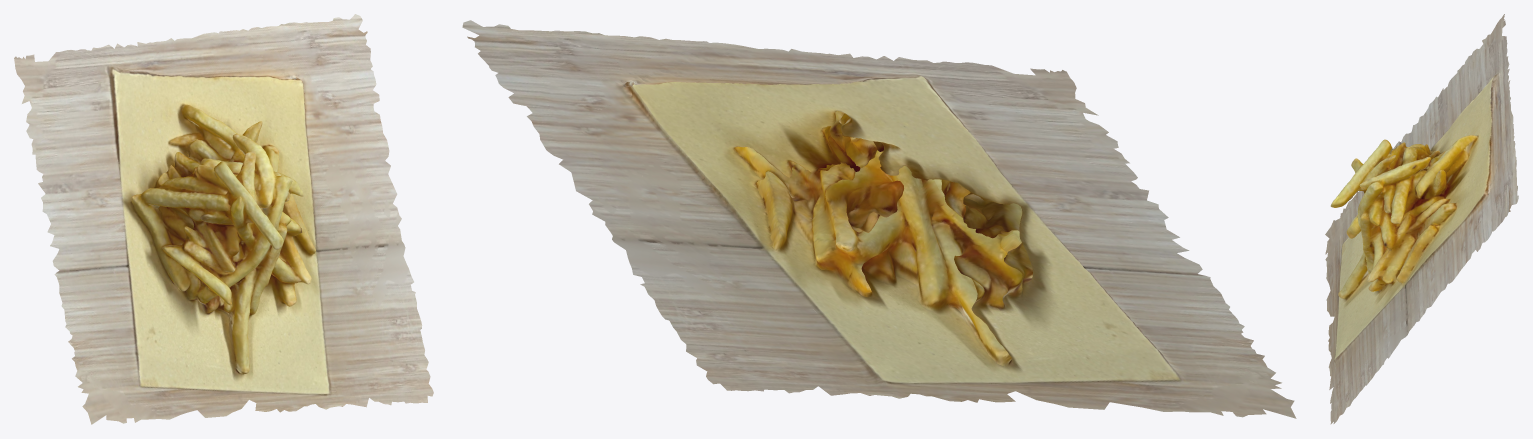
The model's file is french_fries.glb.
3 views of the same model, side by side, from view 1: azimuth 30°, elevation 25°; view 2: azimuth 150°, elevation 25°; view 3: azimuth 270°, elevation 25° (orthographic). The views are drawn at different scales.
Parts seen in each view (by area): view 1: Object_2; view 2: Object_2; view 3: Object_2.
Boxes of the visible parts, bbox=[...] form: Object_2: bbox=[14, 14, 433, 424]; Object_2: bbox=[462, 20, 1296, 418]; Object_2: bbox=[1325, 14, 1518, 424].
Bounding box in the file's own units: 12.97 × 10.92 × 6.7.
Materials: 1 (1 with a texture image).
